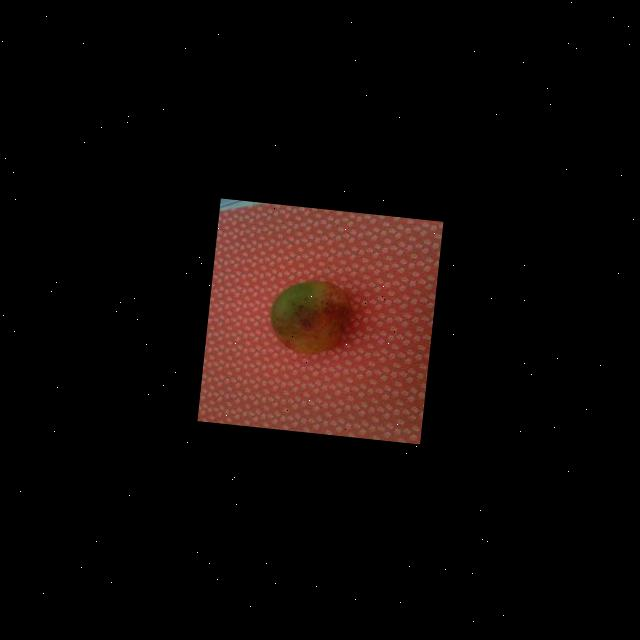Mango: (266, 274, 354, 357)
